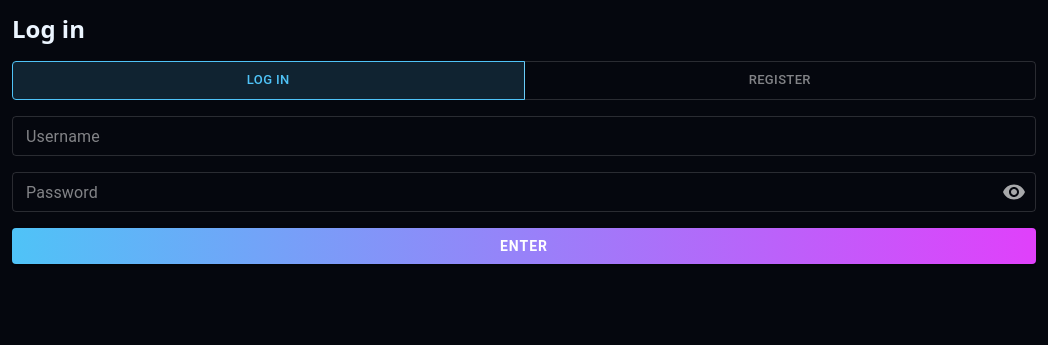
Test case: RegisterForm › shows backend error message when login fails
This screenshot has width=1048, height=345.
Type "Pablo" into the field labelled "Username" at (524, 136), box [12,116,1036,156]
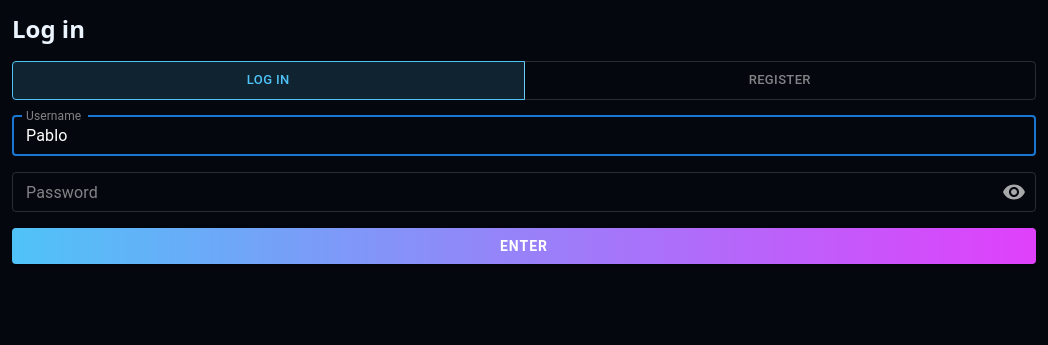
Type "wrong123" into the password field labelled "Password" at (499, 192), box [12,172,986,212]
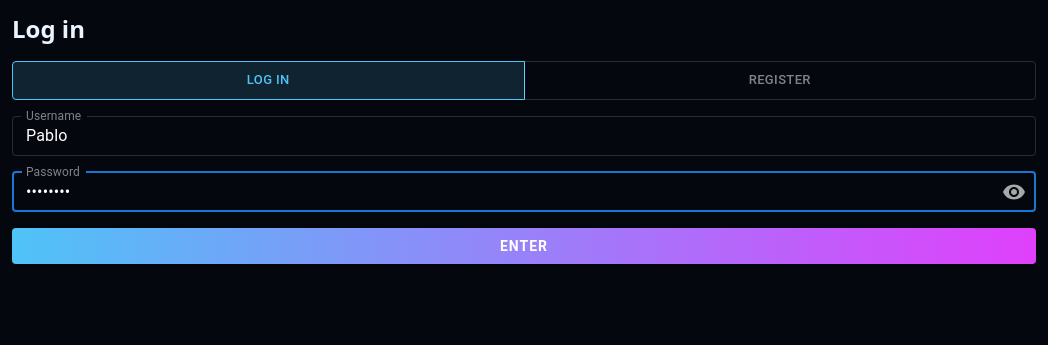
Click the button "Enter" at (524, 246), box [12,228,1036,264]
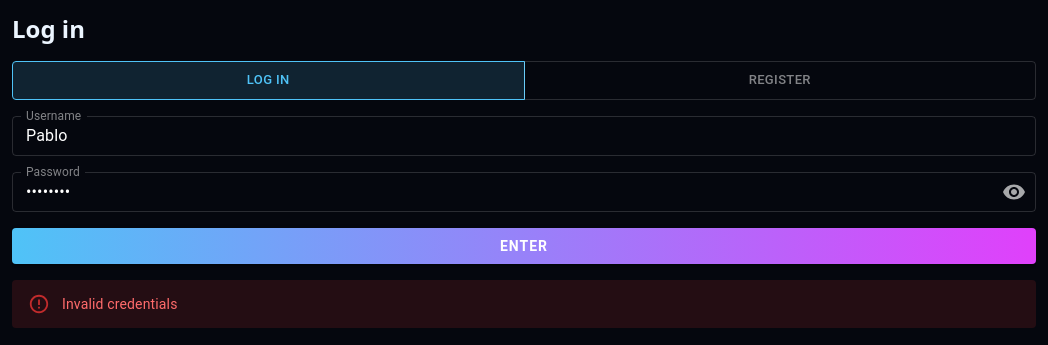
Now the text "Invalid credentials" is shown, box [62,296,178,312]
